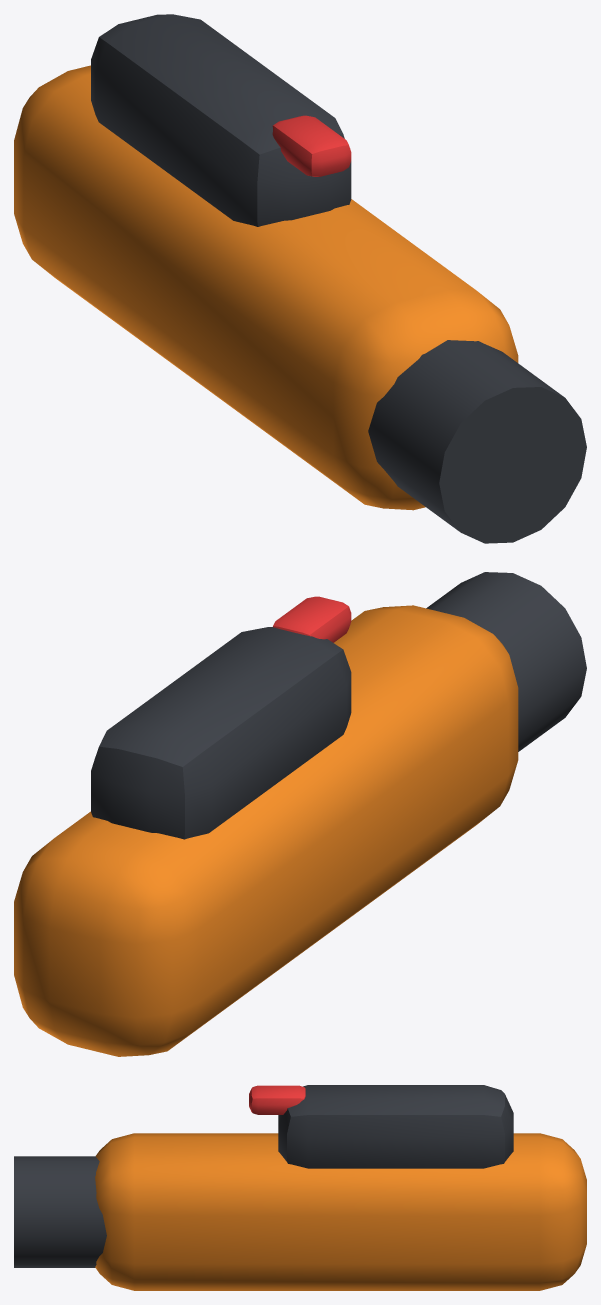
Rendered from vacuum_grip.fbx.
3 views of the same model, one above another, from view 1: azimuth 30°, elevation 25°; view 2: azimuth 150°, elevation 25°; view 3: azimuth 270°, elevation 25° (orthographic). The views are drawn at different scales.
Parts seen in each view (by area): view 1: vacuum_grip; view 2: vacuum_grip; view 3: vacuum_grip.
Part boxes in pixels (x1,y1,x2,y2): vacuum_grip: [14, 14, 586, 543]; vacuum_grip: [14, 572, 586, 1056]; vacuum_grip: [14, 1085, 586, 1290].
Size of the model in its own units: 0.045 by 0.071 by 0.195.
